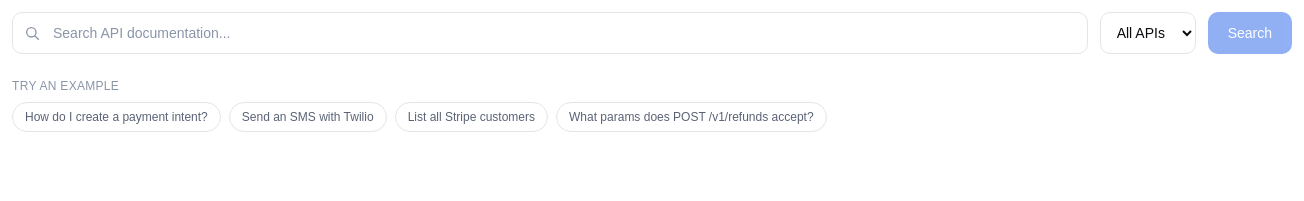
Test: SearchDemo › submits search and renders results
In the field with placeholder "Search API documentation...": coordinates (550, 33) [12,12,1088,54], type "create payment"
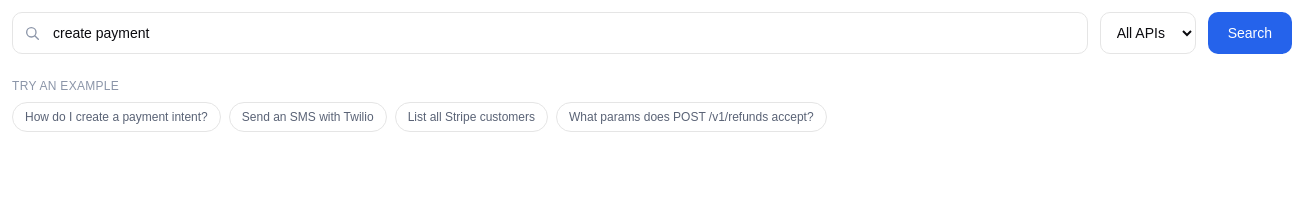
Click the button "Search": coordinates (1250, 33) [1208,12,1292,54]
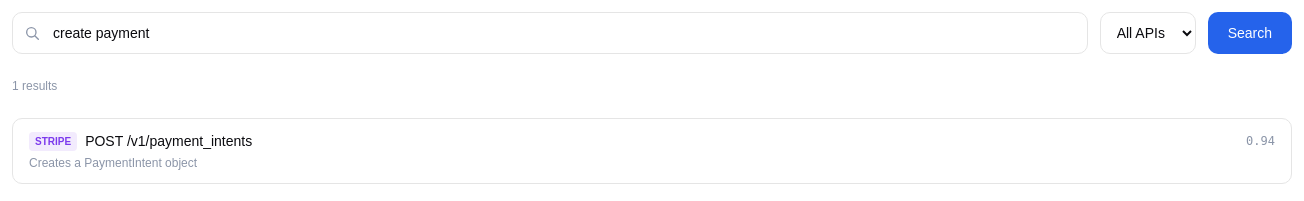
Result: the text "POST /v1/payment_intents" is shown at [85,131,252,151]
